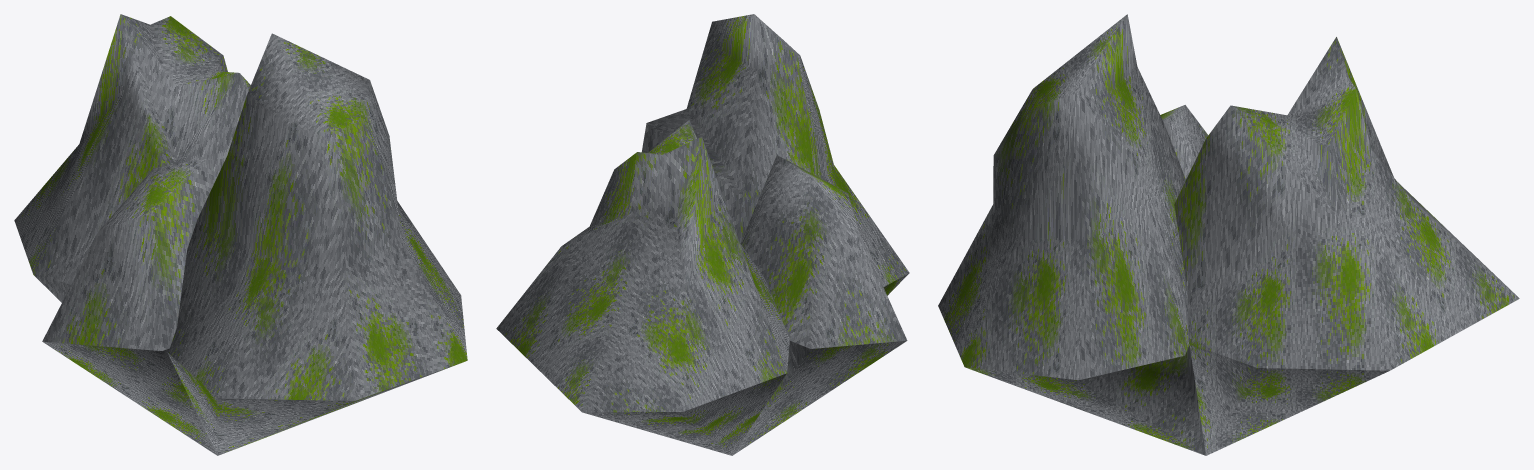
File: rock05.obj
3 renders of one model, left to right at view 1: azimuth 30°, elevation 25°; view 2: azimuth 150°, elevation 25°; view 3: azimuth 270°, elevation 25°, orthographic. The views are drawn at different scales.
Visible parts, largest first — view 1: Cylinder01, Sphere01, Sphere04; view 2: Sphere01, Sphere04, Cylinder01; view 3: Sphere01, Cylinder01, Sphere04.
Boxes of the visible parts, x1,y1,x2,y2 form: Cylinder01: [167, 33, 467, 455]; Sphere01: [14, 14, 250, 302]; Sphere04: [42, 158, 217, 455]; Sphere01: [496, 120, 789, 455]; Sphere04: [732, 155, 907, 455]; Cylinder01: [642, 14, 909, 295]; Sphere01: [1174, 37, 1519, 455]; Cylinder01: [938, 14, 1205, 455]; Sphere04: [1160, 105, 1208, 179].
Bounding box in the file's own units: 164 × 194 × 227.
